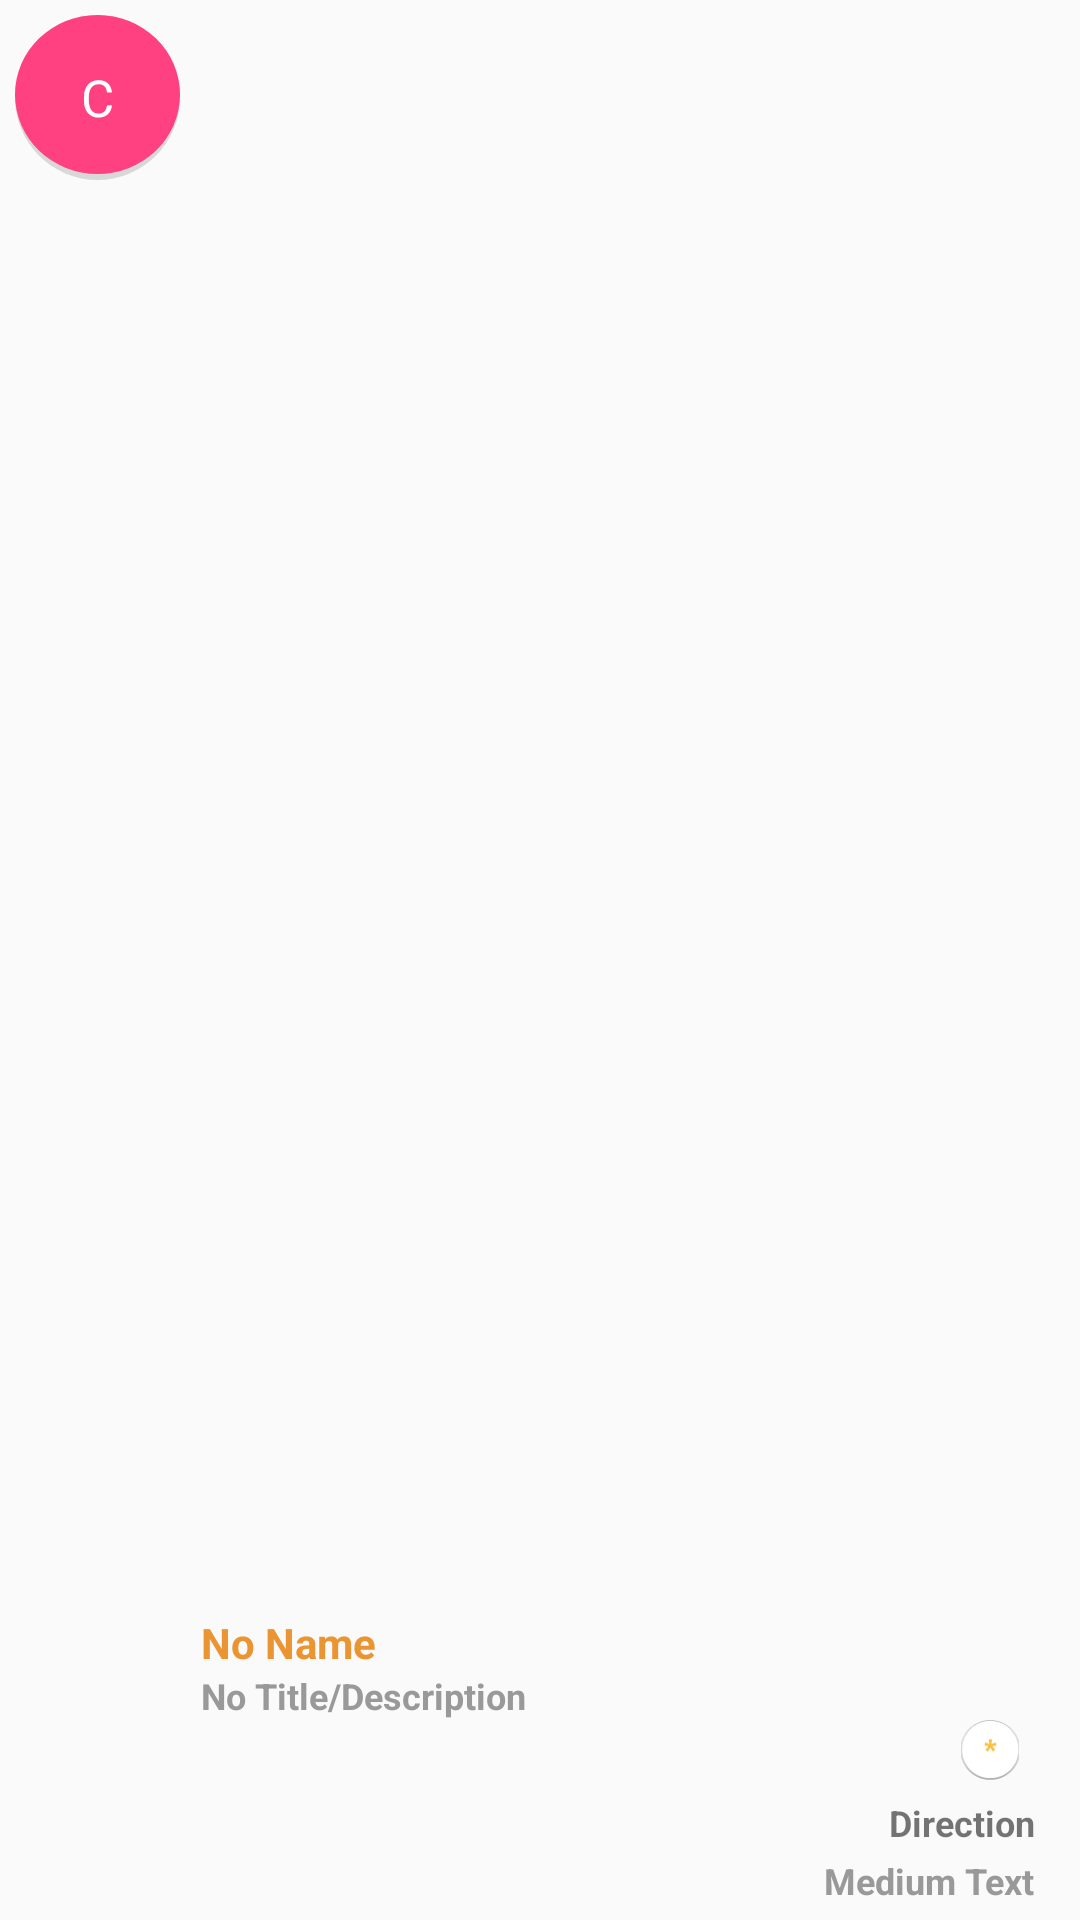

Point at icon controls on the screen. Image size 1080×1920, points as (x=x, y=y).
star: (x=990, y=1750)
